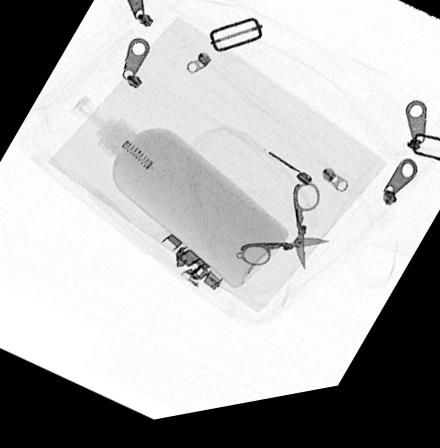Scissors: (234, 192, 330, 280)
